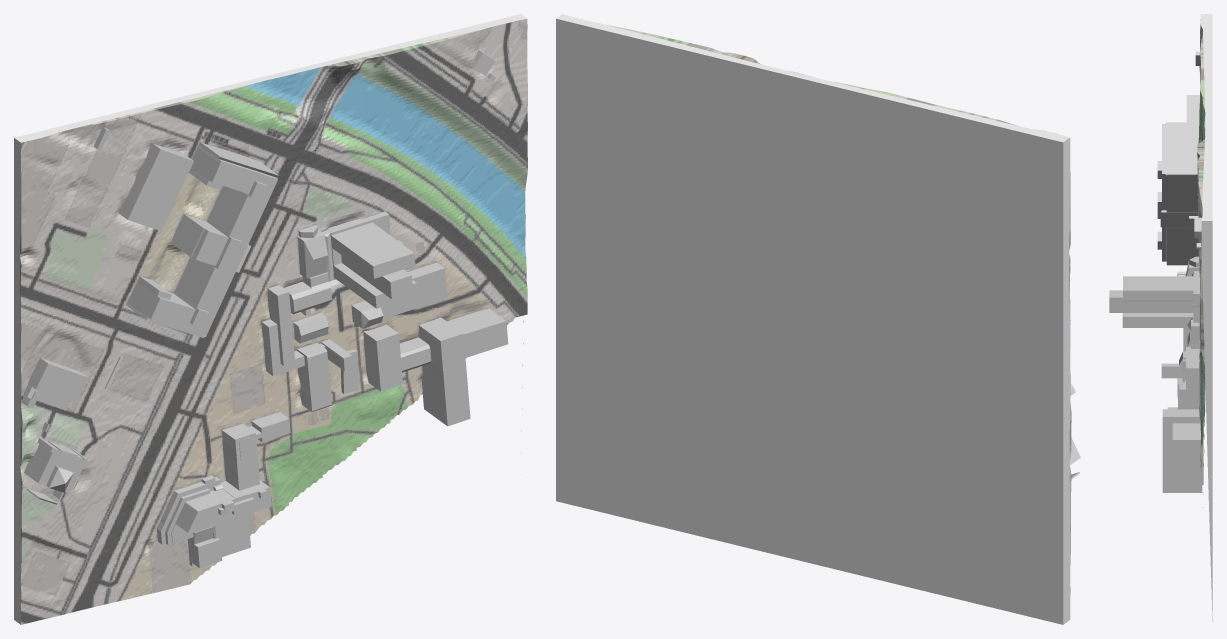
Rendered from 50cd1f7a-7371-4d98-adff-c60954e93f8c.glb.
3 views of the same model, side by side, from view 1: azimuth 30°, elevation 25°; view 2: azimuth 150°, elevation 25°; view 3: azimuth 270°, elevation 25° (orthographic). The views are drawn at different scales.
Visible parts, largest first — view 1: terrain, buildings; view 2: terrain; view 3: buildings, terrain.
Boxes of the visible parts, x1,y1,x2,y2 form: terrain: (14, 14, 527, 624); buildings: (21, 50, 508, 568); terrain: (556, 14, 1071, 624); buildings: (1109, 51, 1203, 492); terrain: (1197, 14, 1212, 621).
Bounding box in the file's own units: 330 × 300 × 69.55.
3 materials, 1 textured.
